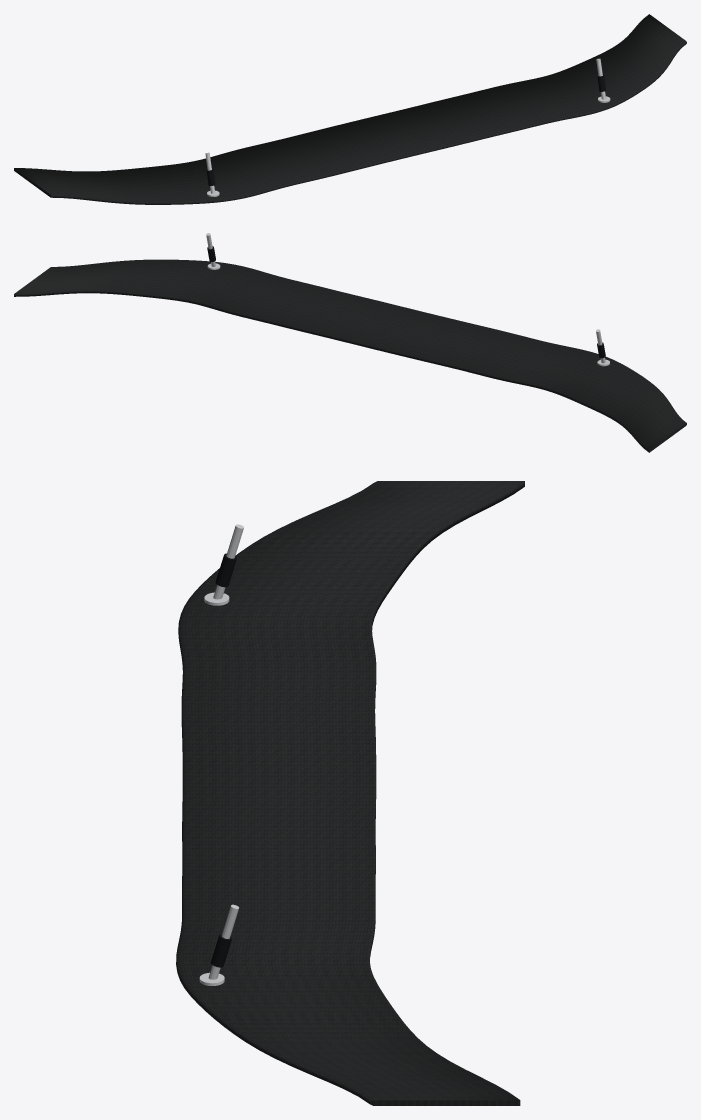
The model's file is FA41_carbon_splitter.glb.
3 renders of one model, top to bottom at view 1: azimuth 30°, elevation 25°; view 2: azimuth 150°, elevation 25°; view 3: azimuth 270°, elevation 25°, orthographic. The views are drawn at different scales.
Visible parts, largest first — view 1: MOD_NA_FA41_blade; view 2: MOD_NA_FA41_blade; view 3: MOD_NA_FA41_blade.
Boxes of the visible parts, box(x1,y1,x2,y2) form: MOD_NA_FA41_blade: box(14, 14, 686, 204); MOD_NA_FA41_blade: box(14, 259, 686, 452); MOD_NA_FA41_blade: box(176, 481, 524, 1105).
Size of the model in its own units: 1.4 by 0.0851 by 0.3332.
Materials: 3 (1 with a texture image).
